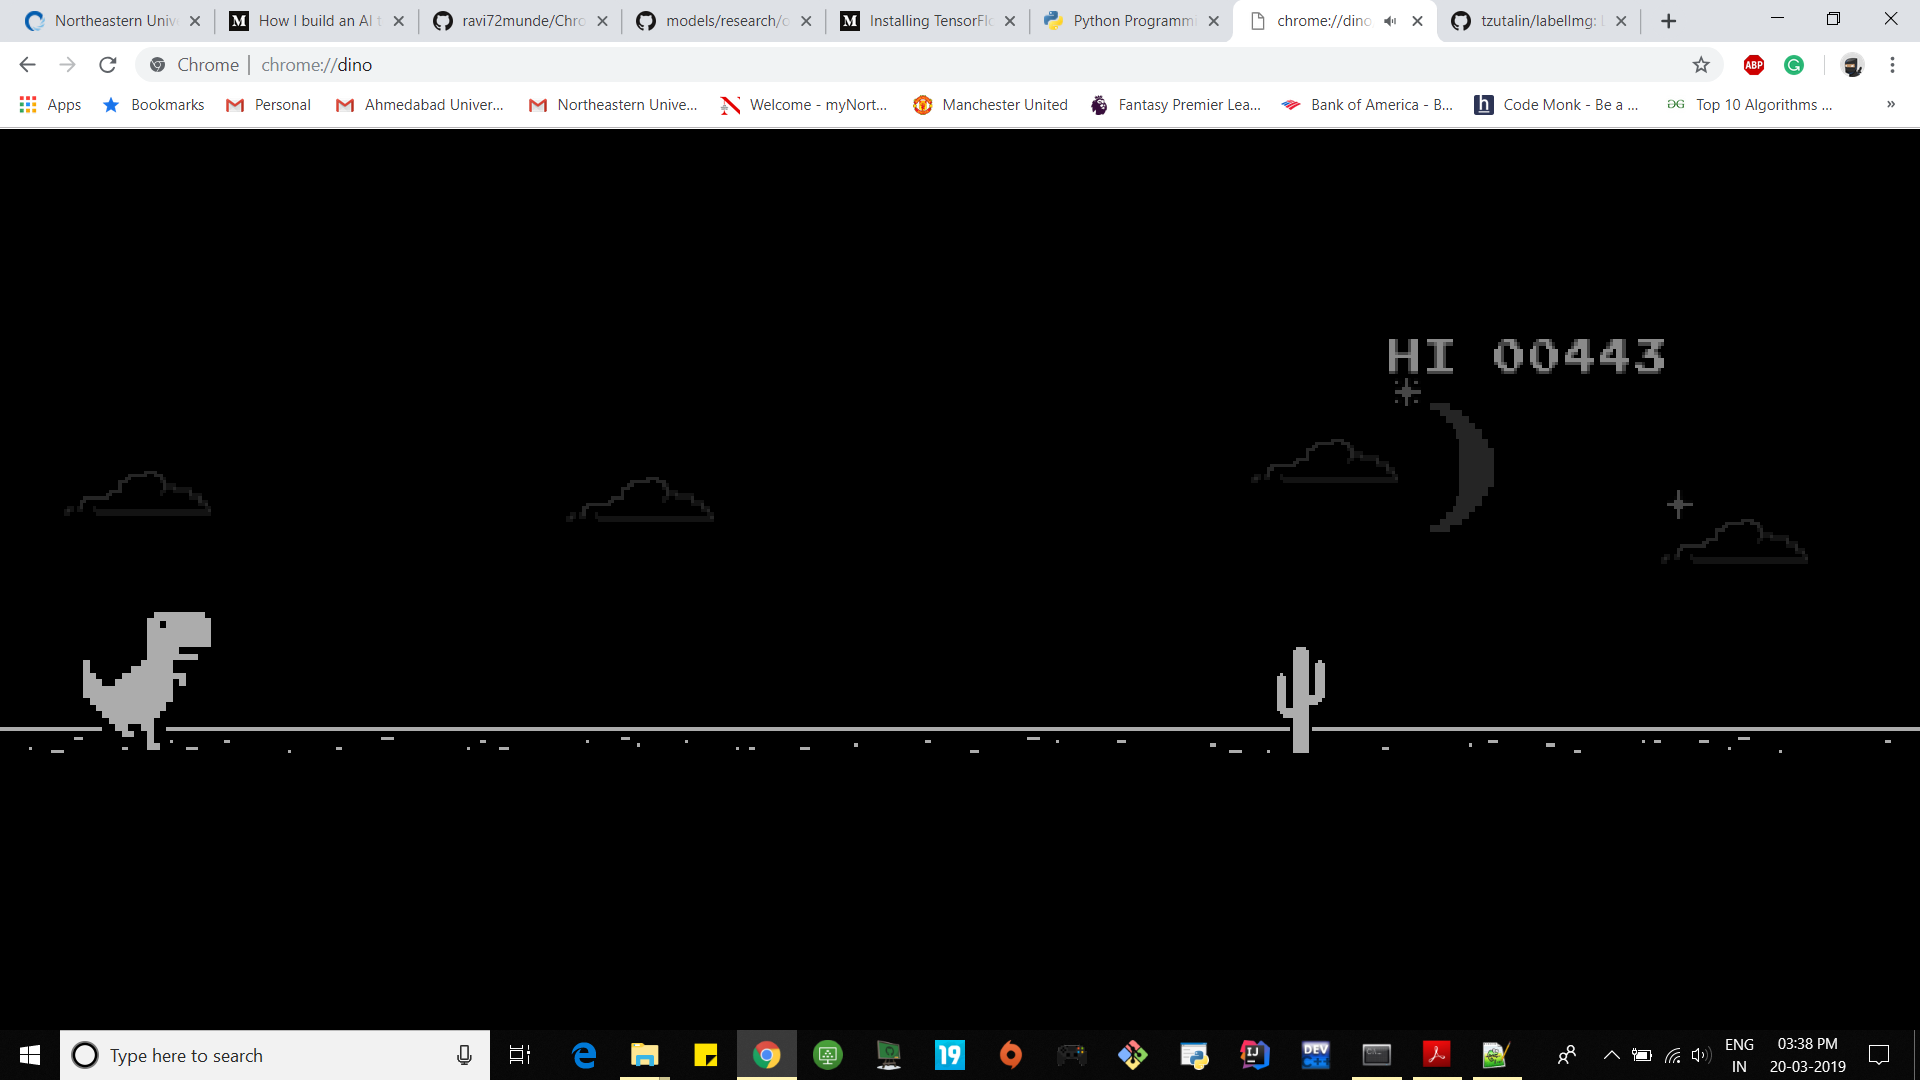cactus-small: (1271, 644, 1328, 756)
dino: (79, 611, 211, 753)
